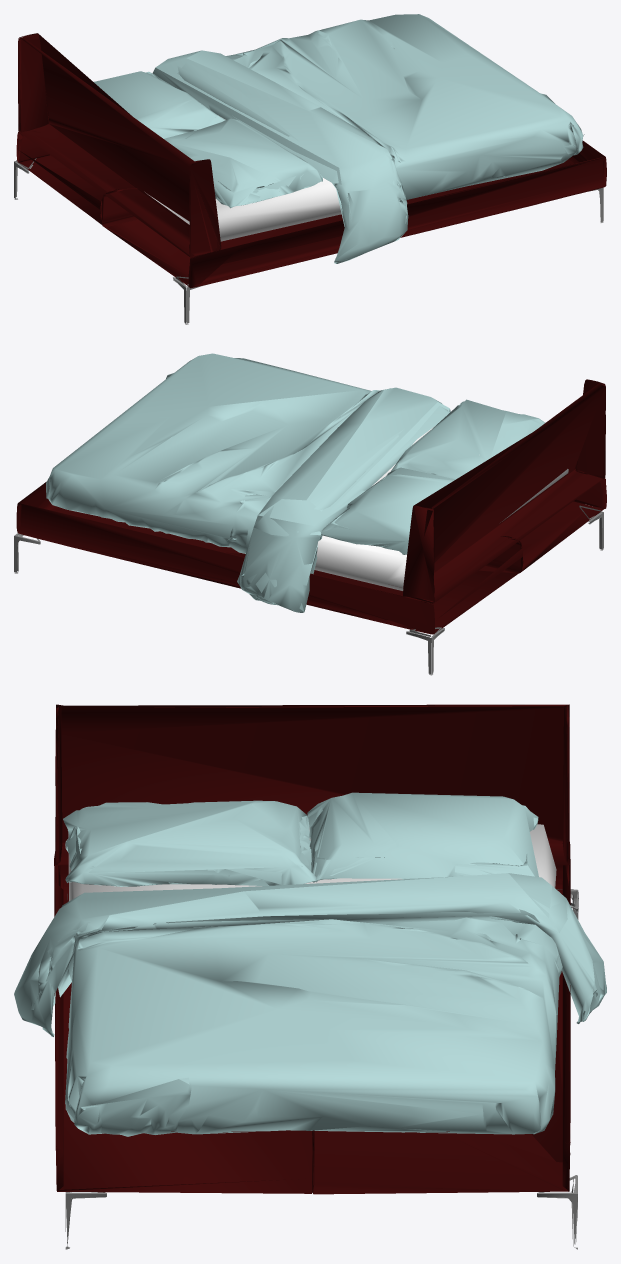
File: Queenbed.fbx
The picture shows the model from 3 angles, top to bottom: view 1: azimuth 30°, elevation 25°; view 2: azimuth 150°, elevation 25°; view 3: azimuth 270°, elevation 25°; orthographic projection. The views are drawn at different scales.
Parts seen in each view (by area): view 1: fabric; view 2: fabric; view 3: fabric.
Part boxes in pixels (box(x1,y1,x2,y2)): fabric: box(14, 14, 606, 324); fabric: box(14, 353, 606, 675); fabric: box(14, 704, 606, 1249).
Size of the model in its own units: 234 by 86.36 by 190.
